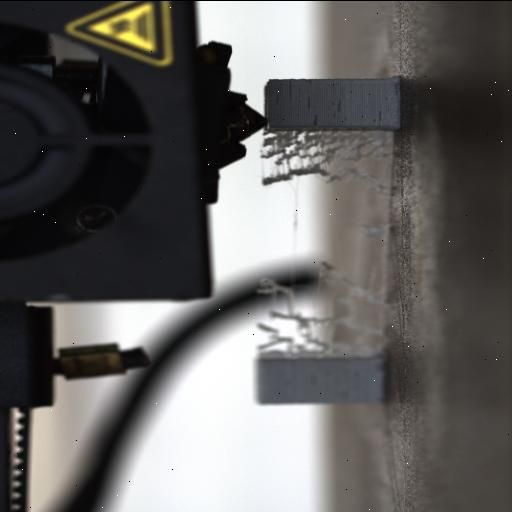stringing: (256, 117, 394, 285), (252, 262, 390, 358)
